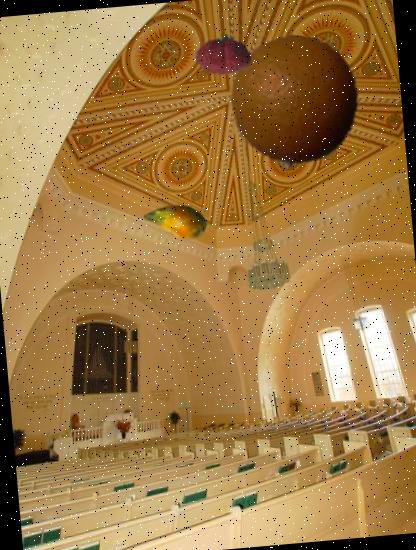Cactus: (142, 185, 210, 253)
Orange: (223, 30, 367, 174)
Strawberry: (192, 24, 254, 86)
